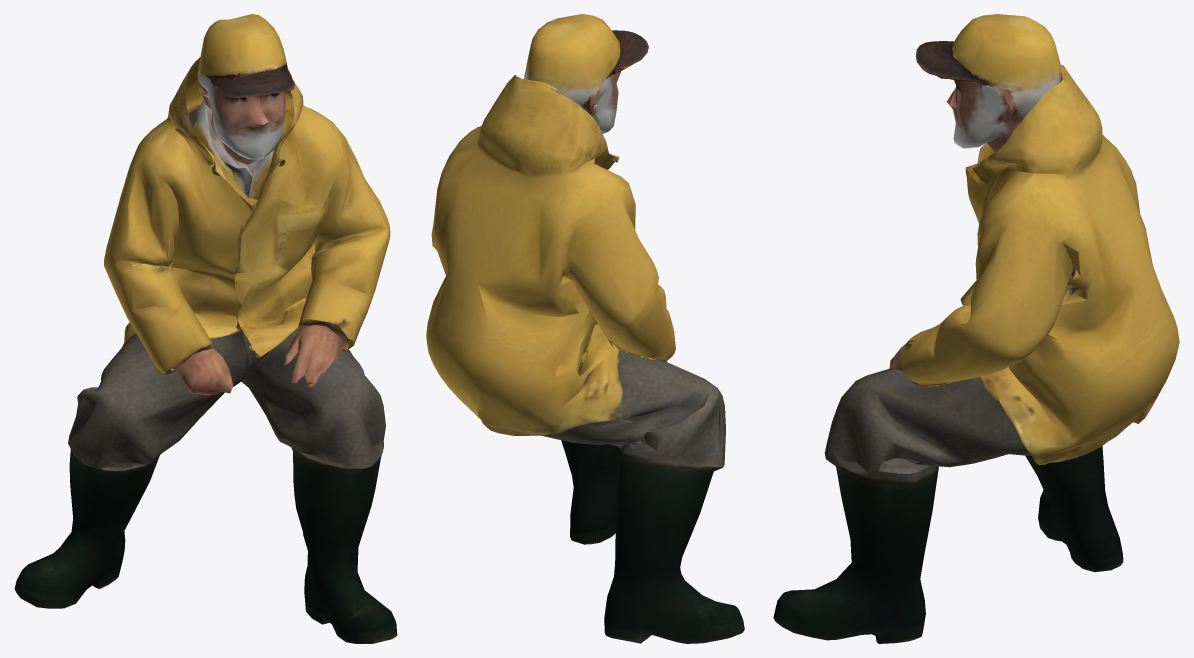
The model's file is npc_fisher.glb.
The picture shows the model from 3 angles, left to right: view 1: azimuth 30°, elevation 25°; view 2: azimuth 150°, elevation 25°; view 3: azimuth 270°, elevation 25°; orthographic projection. The views are drawn at different scales.
Parts seen in each view (by area): view 1: npc_fisher; view 2: npc_fisher; view 3: npc_fisher.
Part boxes in pixels (left/top/right/bottom): npc_fisher: left=14, top=14, right=397, bottom=643; npc_fisher: left=426, top=14, right=744, bottom=643; npc_fisher: left=773, top=14, right=1179, bottom=643.
Size of the model in its own units: 0.7134 by 1.15 by 0.7088.
Materials: 1 (1 with a texture image).
